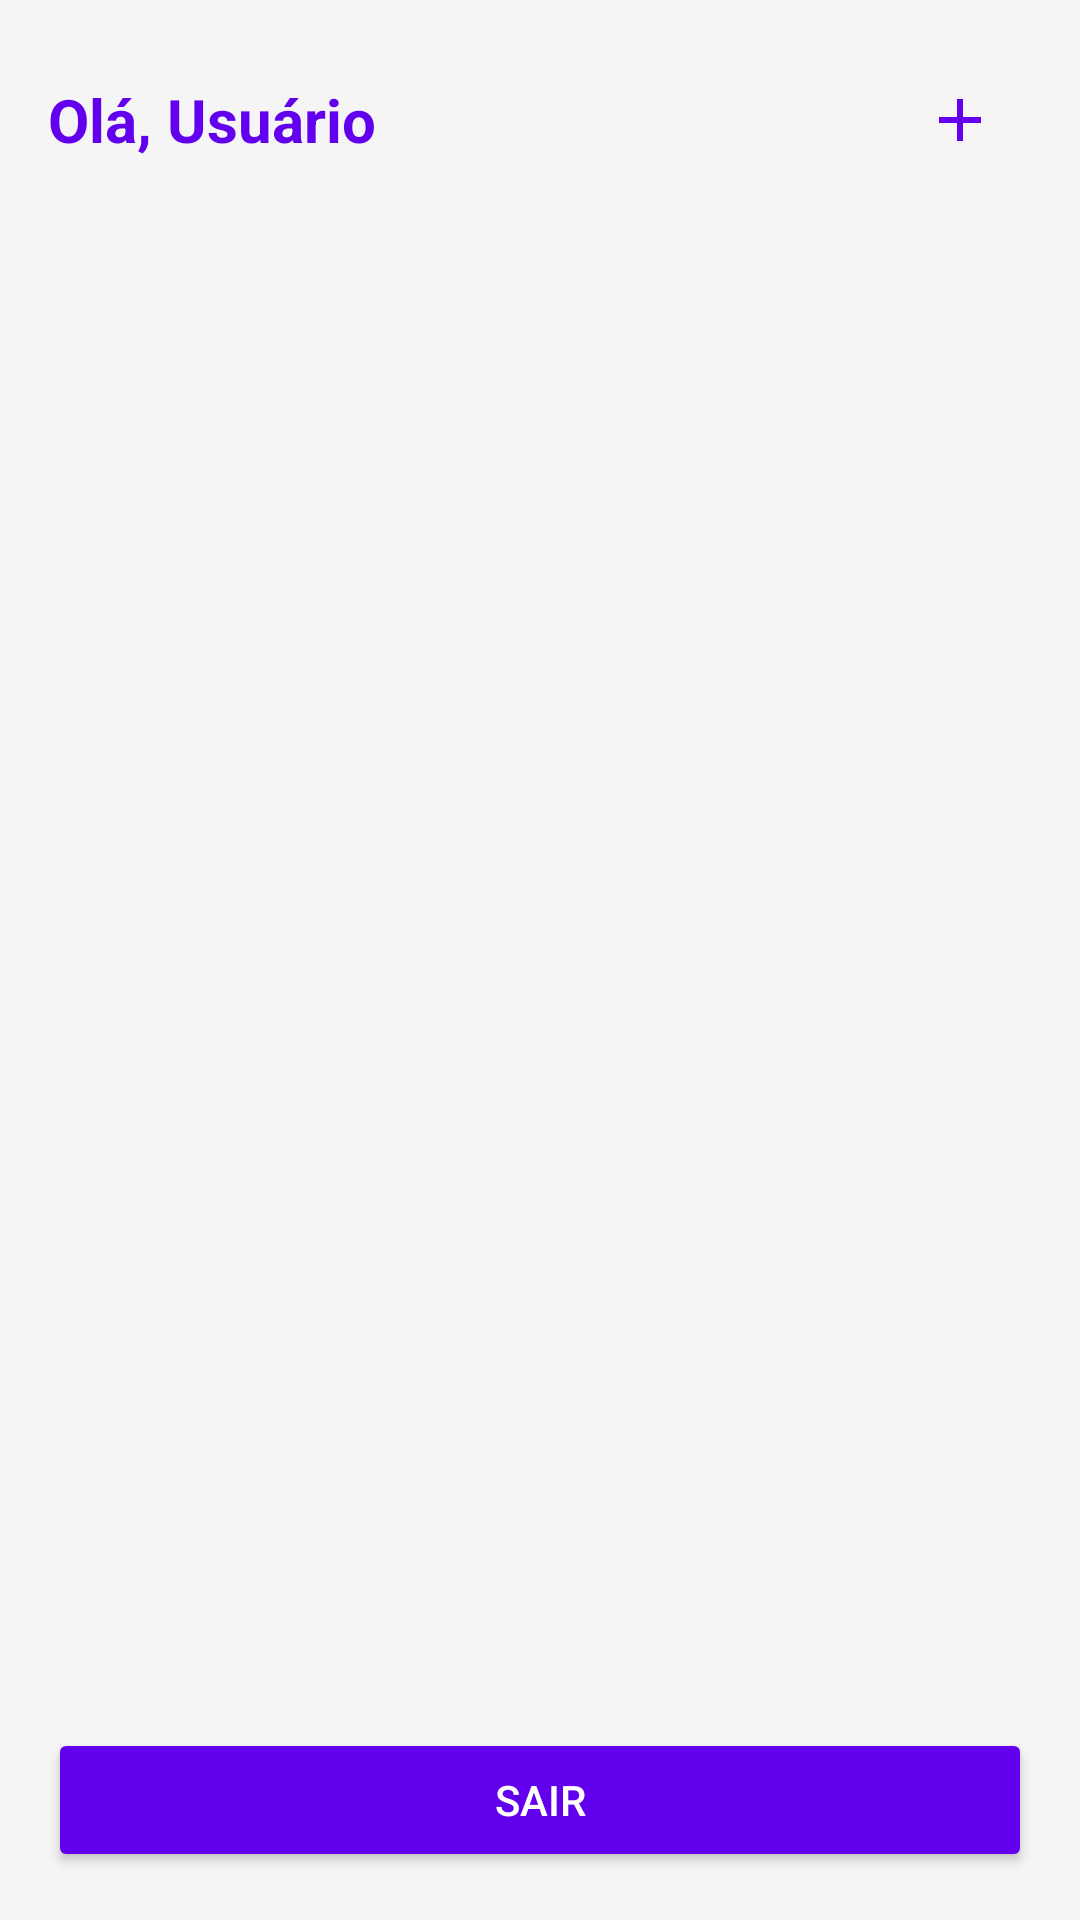

Screen size 1080*1920. Icon name, then its box in pixels as (x1, y1, x2, y2):
Adicionar nova lista: (939, 99, 981, 141)
